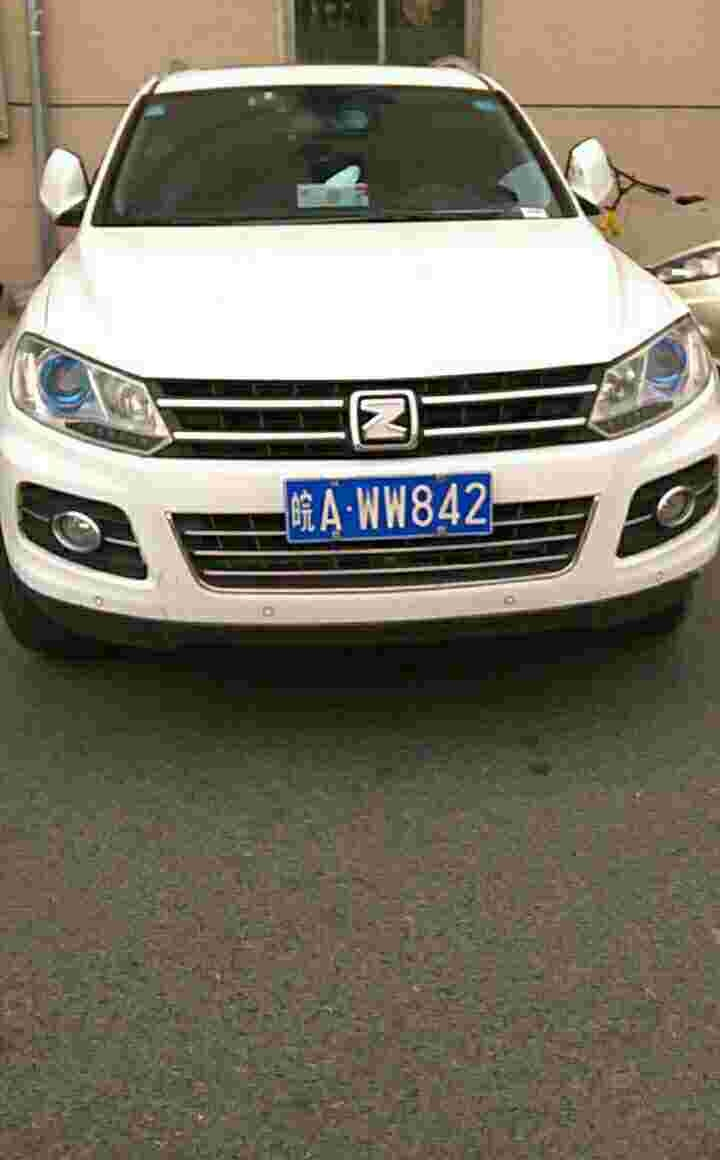license_plate: (300, 465, 488, 543)
